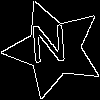N: (29, 24, 69, 72)
